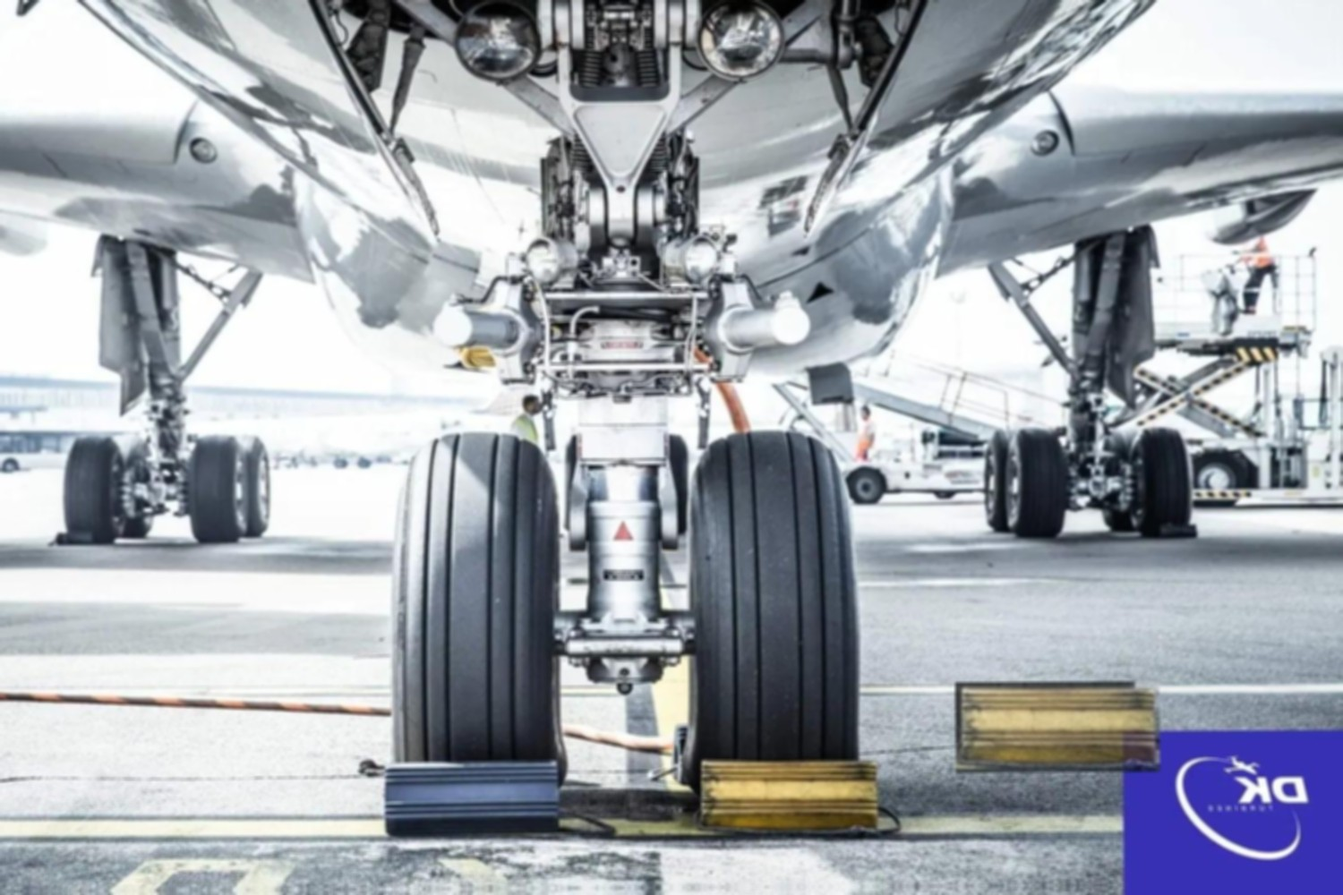chock: (955, 681, 1160, 773), (374, 755, 563, 841), (695, 755, 881, 839)
wheel: (682, 434, 864, 795), (395, 433, 569, 789), (565, 430, 692, 550), (986, 425, 1070, 536), (62, 433, 140, 543), (1130, 426, 1195, 536), (187, 434, 246, 543), (1098, 432, 1147, 531), (115, 447, 159, 538), (235, 435, 273, 537), (983, 431, 1016, 533), (662, 431, 691, 546), (1189, 450, 1253, 494), (563, 433, 584, 540), (845, 465, 887, 505), (934, 489, 957, 498)
